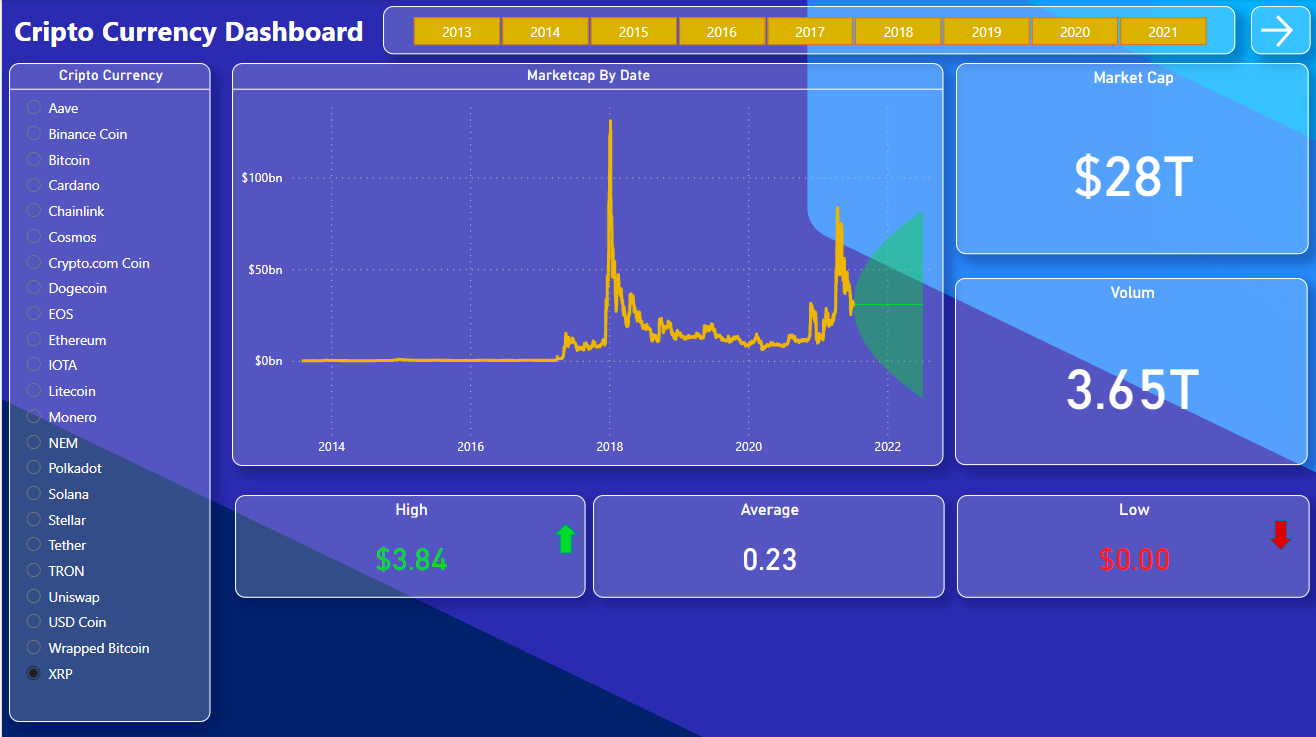

Layout of this report page (visuals, bound fields, positions):
{"tool":"powerbi","page":{"name":"Page 1","canvas":[1280,720],"ordinal":0},"visuals":[{"type":"slicer","title":"Cripto Currency","fields":{"Values":["Table_archive.Name"]},"box":[6.8,62.2,196.5,641],"z":0},{"type":"textbox","box":[6.8,6.8,363.8,47.7],"z":1000},{"type":"slicer","title":"Cripto Currency","fields":{"Values":["Table_archive.Year"]},"box":[371,6.8,828.9,47.4],"z":2000},{"type":"actionButton","box":[1214.6,6.8,57.5,47.4],"z":3000},{"type":"lineChart","title":"Marketcap By  Date","fields":{"Y":["Sum(Table_archive.Marketcap)"],"Category":["Table_archive.Date"]},"box":[223.7,62.2,691.6,392],"z":4000},{"type":"card","title":"Market Cap","fields":{"Values":["Sum(Table_archive.Marketcap)"]},"box":[927.9,62.2,343.3,185.8],"z":5000},{"type":"card","title":"Volum","fields":{"Values":["Sum(Table_archive.Volume)"]},"box":[926.9,271.4,343.3,181.9],"z":6000},{"type":"card","title":"High","fields":{"Values":["Max(Table_archive.High)"]},"box":[226.6,482.4,341.4,100],"z":7000},{"type":"card","title":"Average","fields":{"Values":["Avg(Table_archive.Average)"]},"box":[575,482.9,341.7,100],"z":8000},{"type":"card","title":"Low","fields":{"Values":["Min(Table_archive.Low)"]},"box":[929.1,482.9,342.8,100],"z":9000},{"type":"shape","box":[535.5,510,24.8,30.4],"z":10000},{"type":"shape","box":[1231.4,506.6,25,30],"z":11000}]}

Visuals, with their boxes in screenshot pixels (x1, y1, x2, y2), scaled from the page's 1280x720 canvas onto the 1316x737 screenshot:
"Cripto Currency" slicer: 7/64/209/720
textbox: 7/7/381/56
"Cripto Currency" slicer: 381/7/1234/55
actionButton: 1249/7/1308/55
"Marketcap By  Date" lineChart: 230/64/941/465
"Market Cap" card: 954/64/1307/254
"Volum" card: 953/278/1306/464
"High" card: 233/494/584/596
"Average" card: 591/494/942/597
"Low" card: 955/494/1308/597
shape: 551/522/576/553
shape: 1266/519/1292/549
